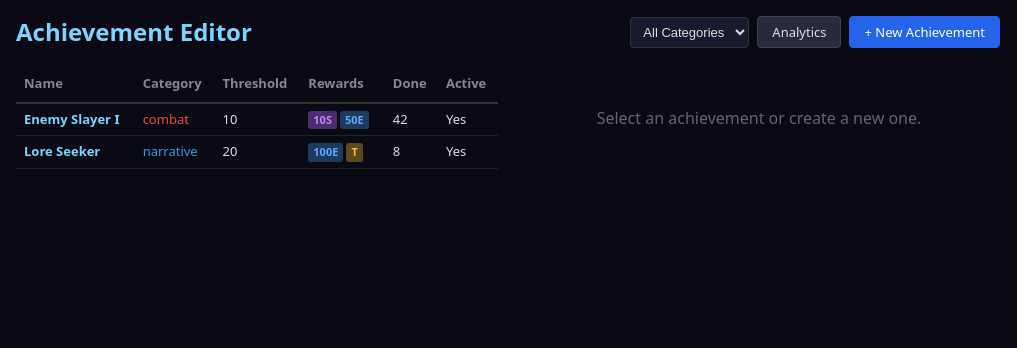
Test: AchievementEditor › shows analytics panel
Click the button "Analytics" at point(799, 32), box top-left (757, 16), bottom-right (841, 48)
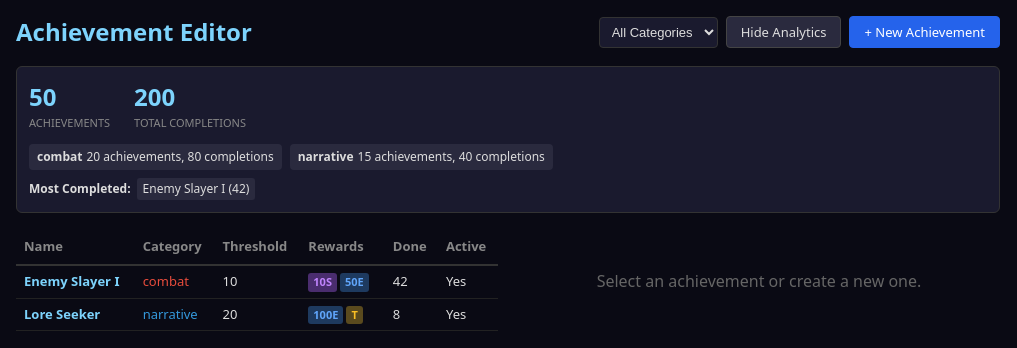
Expected: the text "50" is shown, top-left (29, 80), bottom-right (56, 113)
Expected: the text "200" is shown, top-left (134, 80), bottom-right (175, 113)
